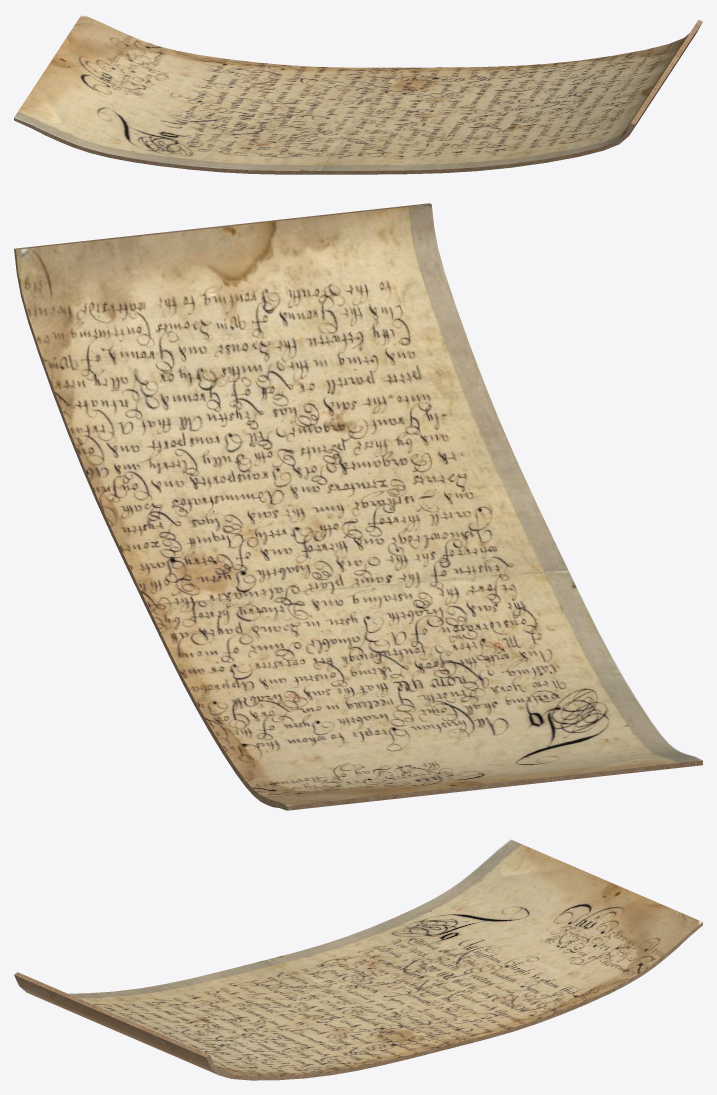
The model's file is parchemin.fbx.
3 views of the same model, one above another, from view 1: azimuth 30°, elevation 25°; view 2: azimuth 150°, elevation 25°; view 3: azimuth 270°, elevation 25° (orthographic). The views are drawn at different scales.
Parts seen in each view (by area): view 1: Parchemin_B1; view 2: Parchemin_B1; view 3: Parchemin_B1.
Part boxes in pixels (box(x1,y1,x2,y2)): Parchemin_B1: box(14, 14, 702, 174); Parchemin_B1: box(14, 203, 702, 810); Parchemin_B1: box(14, 839, 702, 1080).
Bounding box in the file's own units: 43.68 × 7.47 × 44.01.
